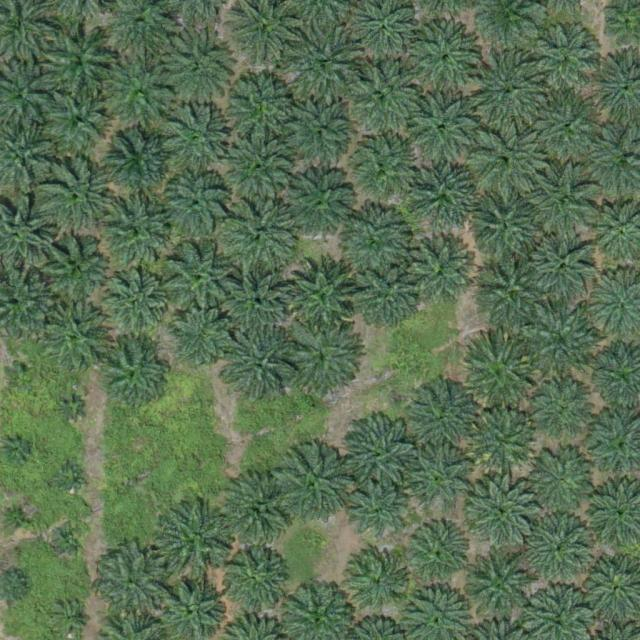Healthy: (39, 19, 117, 98), (42, 81, 120, 160), (39, 156, 117, 235), (33, 227, 111, 306), (97, 53, 175, 132), (156, 104, 234, 183), (158, 27, 236, 106), (159, 242, 237, 321), (224, 129, 302, 208), (224, 197, 302, 276), (221, 327, 299, 406), (338, 61, 416, 140), (283, 255, 361, 334), (286, 320, 364, 399), (469, 51, 547, 130), (466, 123, 544, 202), (340, 416, 418, 495), (274, 449, 352, 528), (159, 502, 237, 581), (224, 71, 302, 149), (341, 130, 419, 208), (334, 204, 412, 282), (99, 339, 170, 410), (104, 198, 175, 269), (167, 304, 238, 375), (292, 26, 363, 97), (467, 554, 538, 625), (97, 265, 167, 336), (106, 128, 177, 198), (220, 269, 290, 340), (284, 169, 354, 240), (284, 98, 355, 168), (406, 94, 476, 165), (409, 25, 479, 96), (472, 194, 542, 265), (476, 255, 546, 326), (529, 233, 600, 303), (527, 168, 598, 238), (532, 93, 602, 164), (530, 26, 600, 97), (469, 475, 540, 545), (223, 474, 293, 545), (41, 307, 111, 377), (162, 172, 232, 242), (350, 260, 420, 330), (407, 237, 477, 307), (411, 159, 481, 229), (527, 310, 597, 380), (526, 445, 596, 515), (527, 514, 597, 584), (97, 548, 167, 618), (530, 378, 593, 441), (415, 386, 478, 449), (405, 523, 468, 586), (408, 447, 470, 510), (347, 480, 409, 543), (345, 552, 408, 614), (223, 547, 285, 610)
Small: (55, 604, 86, 636), (3, 501, 34, 533), (55, 525, 86, 556), (57, 393, 88, 424), (55, 463, 86, 494), (6, 360, 37, 391)
Yellow: (461, 338, 539, 416), (472, 409, 534, 472)
